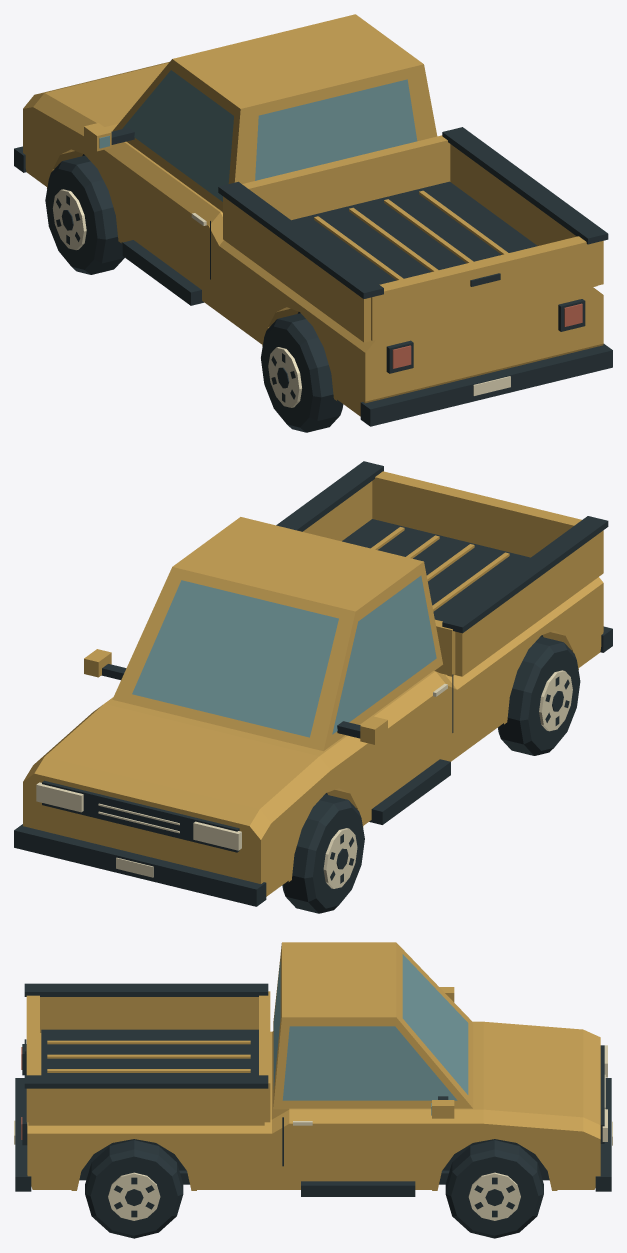
Rendered from pickup.glb.
3 views of the same model, one above another, from view 1: azimuth 30°, elevation 25°; view 2: azimuth 150°, elevation 25°; view 3: azimuth 270°, elevation 25° (orthographic). The views are drawn at different scales.
Parts seen in each view (by area): view 1: Body_shell_0, Cabin_roof_13, Tailgate_25, Cargo_bed_floor_20, Body_upper_facets_1, Rear_window_17, Bed_front_wall_26, Side_window_18, Wheel_Rear_Left, Wheel_Front_Left, Bed_side_wall_21, Rear_bumper_46 (+12 smaller); view 2: Body_upper_facets_1, Body_shell_0, Windshield_16, Cabin_roof_13, Tailgate_25, Windshield_frame_14, Side_window_18, Wheel_Front_Left, Wheel_Rear_Left, Bed_side_wall_21, Cargo_bed_floor_20, Front_bumper_44 (+12 smaller); view 3: Body_shell_0, Body_upper_facets_1, Side_window_19, Bed_side_wall_23, Cabin_roof_13, Cargo_bed_floor_20, Wheel_Rear_Right, Wheel_Front_Right, Bed_side_wall_21, Windshield_16, Cabin_side_12, Bed_rail_24 (+18 smaller).
Part boxes in pixels (left/top/right/bottom): Body_shell_0: left=23, top=107, right=603, bottom=416; Cabin_roof_13: left=173, top=14, right=423, bottom=108; Tailgate_25: left=371, top=236, right=597, bottom=340; Cargo_bed_floor_20: left=291, top=181, right=537, bottom=284; Body_upper_facets_1: left=23, top=61, right=602, bottom=352; Rear_window_17: left=255, top=79, right=417, bottom=180; Bed_front_wall_26: left=242, top=135, right=450, bottom=220; Side_window_18: left=122, top=70, right=233, bottom=201; Wheel_Rear_Left: left=261, top=313, right=343, bottom=432; Wheel_Front_Left: left=45, top=155, right=124, bottom=274; Bed_side_wall_21: left=223, top=196, right=371, bottom=342; Rear_bumper_46: left=360, top=344, right=612, bottom=426; Body_upper_facets_1: left=23, top=577, right=603, bottom=839; Body_shell_0: left=23, top=583, right=603, bottom=896; Windshield_16: left=132, top=580, right=338, bottom=737; Cabin_roof_13: left=172, top=517, right=423, bottom=611; Tailgate_25: left=372, top=471, right=581, bottom=557; Windshield_frame_14: left=112, top=567, right=355, bottom=751; Side_window_18: left=332, top=575, right=436, bottom=734; Wheel_Front_Left: left=282, top=794, right=364, bottom=913; Wheel_Rear_Left: left=498, top=636, right=580, bottom=755; Bed_side_wall_21: left=455, top=530, right=603, bottom=676; Cargo_bed_floor_20: left=342, top=519, right=530, bottom=621; Front_bumper_44: left=14, top=824, right=266, bottom=906; Body_shell_0: left=27, top=1123, right=600, bottom=1189; Body_upper_facets_1: left=27, top=1021, right=600, bottom=1139; Side_window_19: left=282, top=1026, right=457, bottom=1100; Bed_side_wall_23: left=28, top=1088, right=264, bottom=1125; Cabin_roof_13: left=282, top=942, right=396, bottom=1017; Cargo_bed_floor_20: left=41, top=1029, right=258, bottom=1075; Wheel_Rear_Right: left=85, top=1140, right=183, bottom=1238; Wheel_Front_Right: left=445, top=1140, right=543, bottom=1238; Bed_side_wall_21: left=40, top=997, right=258, bottom=1032; Windshield_16: left=402, top=954, right=468, bottom=1094; Cabin_side_12: left=273, top=1017, right=472, bottom=1109; Bed_rail_24: left=24, top=1075, right=268, bottom=1088.
Bounding box in the file's own units: 2.29 × 1.85 × 4.87.
